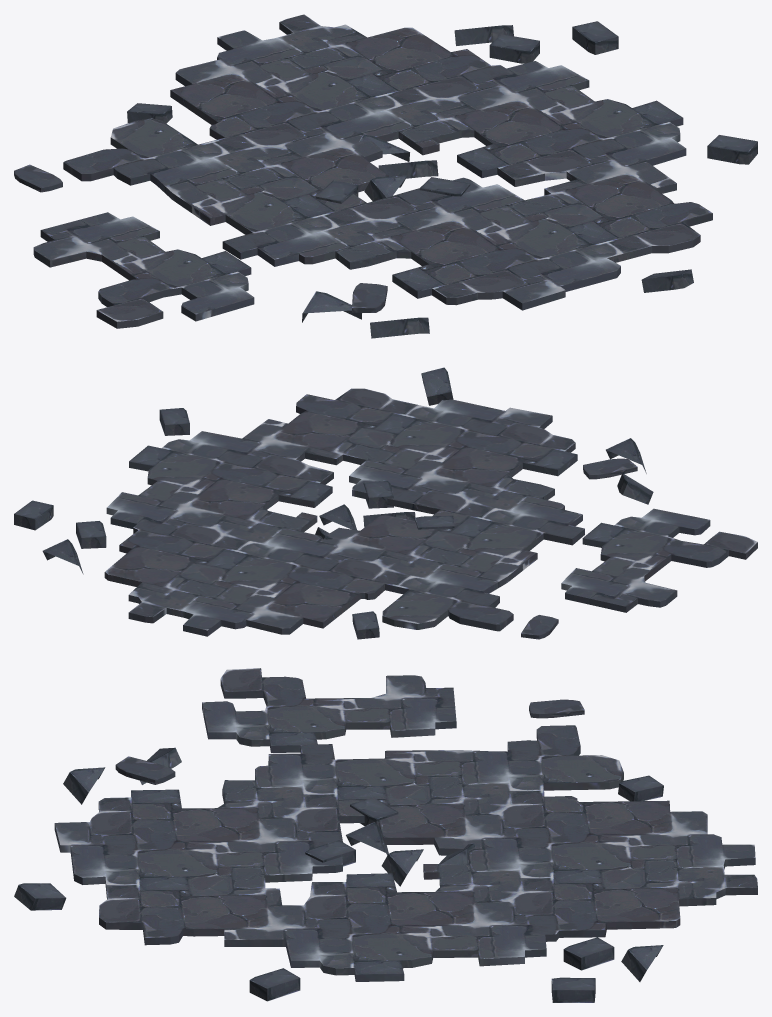
File: Beidaying_csdimian.FBX
The picture shows the model from 3 angles, top to bottom: view 1: azimuth 30°, elevation 25°; view 2: azimuth 150°, elevation 25°; view 3: azimuth 270°, elevation 25°; orthographic projection. The views are drawn at different scales.
Parts seen in each view (by area): view 1: Beidaying_csdimian; view 2: Beidaying_csdimian; view 3: Beidaying_csdimian.
Boxes of the visible parts, x1,y1,x2,y2 form: Beidaying_csdimian: (14,14,757,338); Beidaying_csdimian: (14,367,757,639); Beidaying_csdimian: (14,668,757,1002).
Bounding box in the file's own units: 471 × 453 × 18.83.
